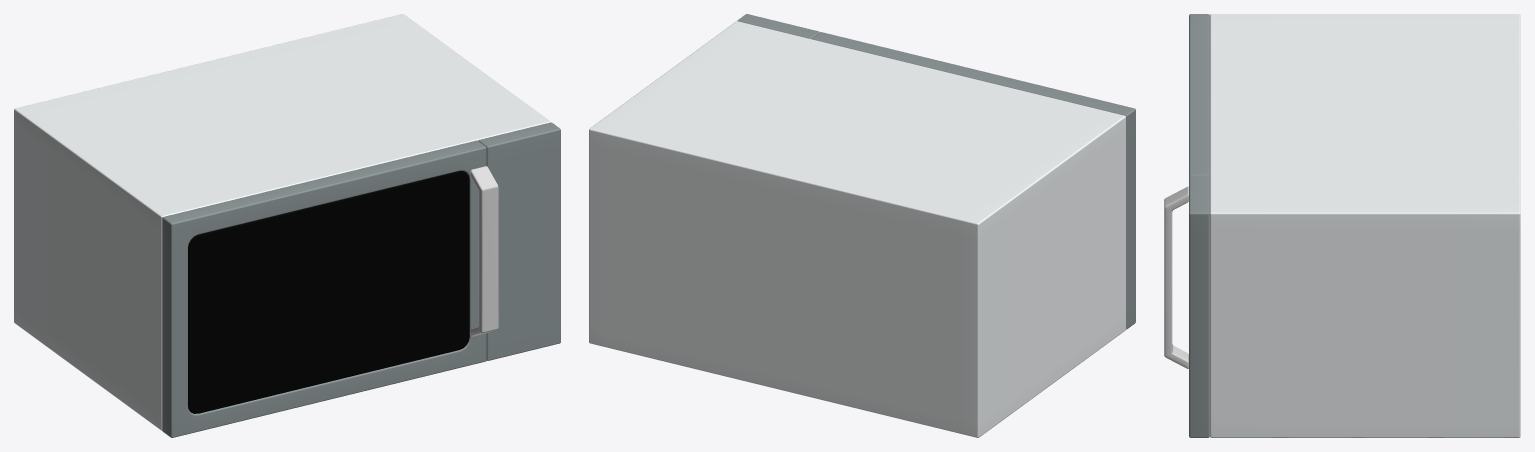
The model's file is microondas .fbx.
3 views of the same model, side by side, from view 1: azimuth 30°, elevation 25°; view 2: azimuth 150°, elevation 25°; view 3: azimuth 270°, elevation 25° (orthographic). The views are drawn at different scales.
Visible parts, largest first — view 1: modern_kitchen_024_microwave_frame_001_mesh, modern_kitchen_024_microwave_door_glass_mesh, modern_kitchen_024_microwave_door_frame_mesh, modern_kitchen_024_microwave_frame_002_mesh, modern_kitchen_024_microwave_door_handle_mesh; view 2: modern_kitchen_024_microwave_frame_001_mesh, modern_kitchen_024_microwave_door_frame_mesh, modern_kitchen_024_microwave_frame_002_mesh; view 3: modern_kitchen_024_microwave_frame_001_mesh, modern_kitchen_024_microwave_frame_002_mesh, modern_kitchen_024_microwave_door_frame_mesh, modern_kitchen_024_microwave_door_handle_mesh.
Boxes of the visible parts, x1,y1,x2,y2 form: modern_kitchen_024_microwave_frame_001_mesh: (14, 14, 550, 430); modern_kitchen_024_microwave_door_glass_mesh: (188, 170, 469, 413); modern_kitchen_024_microwave_door_frame_mesh: (162, 140, 486, 437); modern_kitchen_024_microwave_frame_002_mesh: (478, 122, 560, 360); modern_kitchen_024_microwave_door_handle_mesh: (470, 166, 498, 336); modern_kitchen_024_microwave_frame_001_mesh: (589, 21, 1125, 437); modern_kitchen_024_microwave_door_frame_mesh: (812, 32, 1135, 329); modern_kitchen_024_microwave_frame_002_mesh: (737, 14, 819, 38); modern_kitchen_024_microwave_frame_001_mesh: (1209, 14, 1520, 437); modern_kitchen_024_microwave_frame_002_mesh: (1189, 175, 1209, 437); modern_kitchen_024_microwave_door_frame_mesh: (1189, 14, 1209, 176); modern_kitchen_024_microwave_door_handle_mesh: (1164, 186, 1188, 368).
Size of the model in its own units: 57 by 30 by 43.
5 materials, 4 textured.
